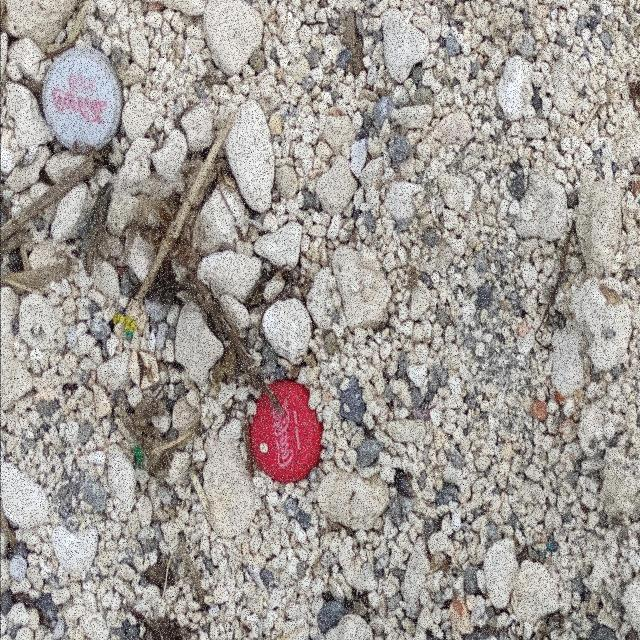plastic_waste: (42, 49, 124, 156), (251, 380, 325, 485)
